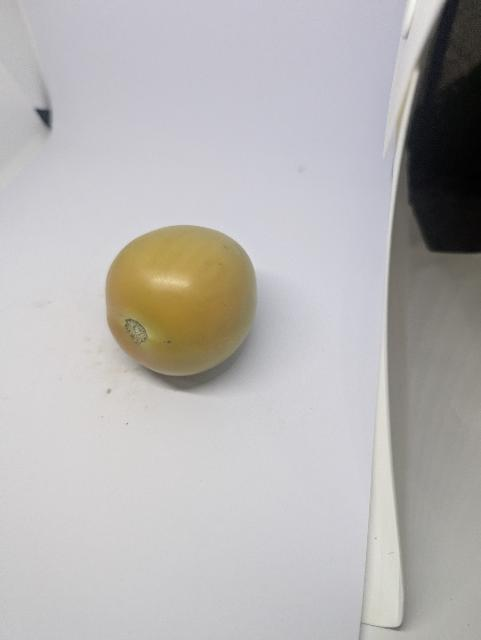breaker: (106, 225, 257, 376)
